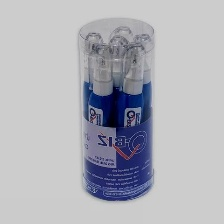correction_fluid: (103, 22, 136, 167), (116, 40, 146, 192), (103, 34, 132, 184), (129, 31, 155, 185), (88, 43, 115, 191), (80, 28, 105, 182)
plastic_box: (75, 15, 161, 204)
